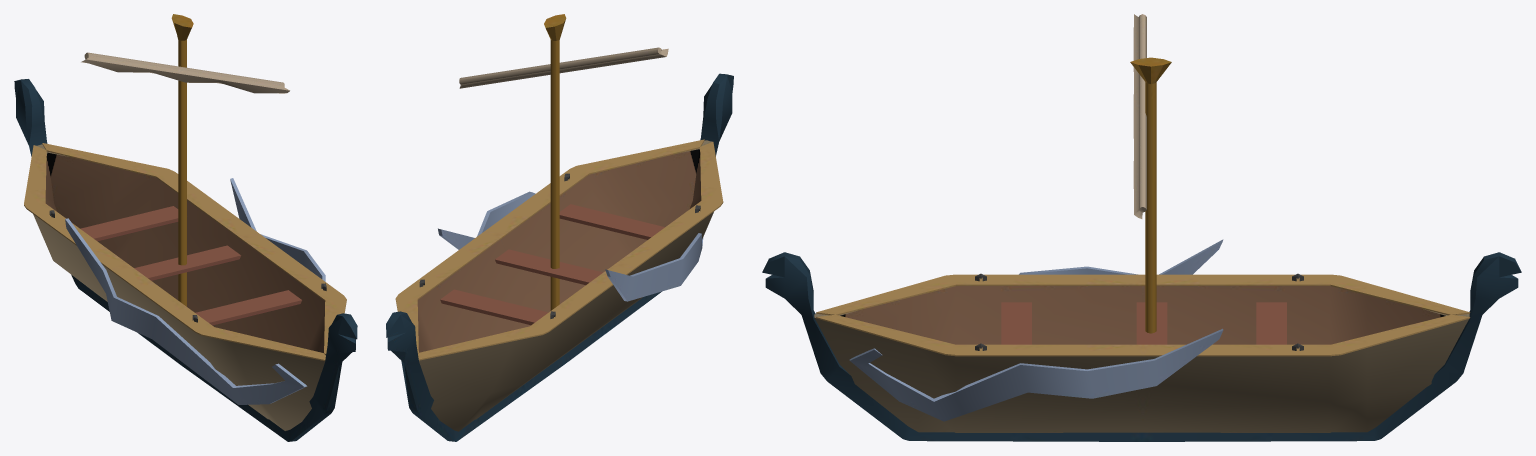
Rendered from Boat.fbx.
3 views of the same model, side by side, from view 1: azimuth 30°, elevation 25°; view 2: azimuth 150°, elevation 25°; view 3: azimuth 270°, elevation 25° (orthographic). The views are drawn at different scales.
Parts seen in each view (by area): view 1: pCube592_1; view 2: pCube592_1; view 3: pCube592_1.
Part boxes in pixels (bbox=[...]): pCube592_1: bbox=[14, 14, 357, 441]; pCube592_1: bbox=[386, 14, 733, 441]; pCube592_1: bbox=[762, 14, 1521, 441].
Bounding box in the file's own units: 2.53 × 4 × 7.29.
1 material, 1 textured.
